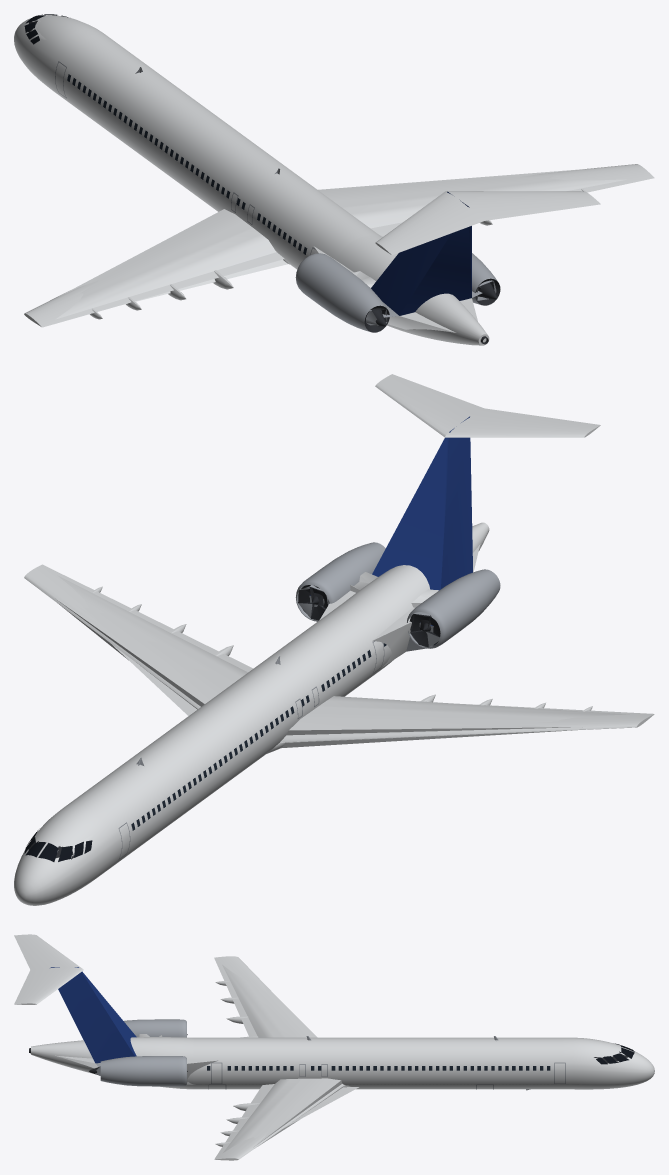
File: lat_regional.dae
The picture shows the model from 3 angles, top to bottom: view 1: azimuth 30°, elevation 25°; view 2: azimuth 150°, elevation 25°; view 3: azimuth 270°, elevation 25°; orthographic projection. The views are drawn at different scales.
Visible parts, largest first — view 1: lat_regional150, lat_regional32, lat_regional1; view 2: lat_regional150, lat_regional32, lat_regional1; view 3: lat_regional150, lat_regional32, lat_regional1.
Part boxes in pixels (x1=…): lat_regional150: x1=14, y1=14, x2=654, y2=345; lat_regional32: x1=26, y1=15, x2=626, y2=343; lat_regional1: x1=314, y1=191, x2=482, y2=332; lat_regional150: x1=14, y1=374, x2=654, y2=905; lat_regional32: x1=28, y1=572, x2=629, y2=859; lat_regional1: x1=112, y1=416, x2=480, y2=742; lat_regional150: x1=14, y1=934, x2=654, y2=1160; lat_regional32: x1=95, y1=964, x2=628, y2=1152; lat_regional1: x1=50, y1=967, x2=358, y2=1128.
Bounding box in the file's own units: 24.9 × 33.39 × 7.05.
